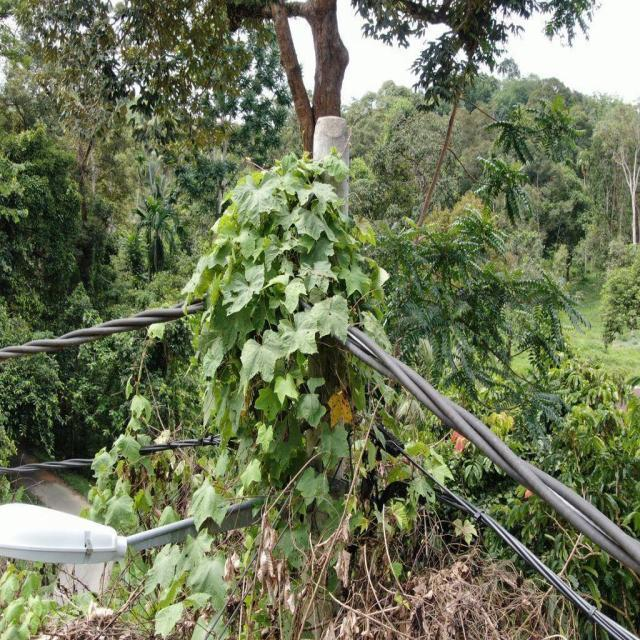critical vegetation: (171, 139, 396, 539)
